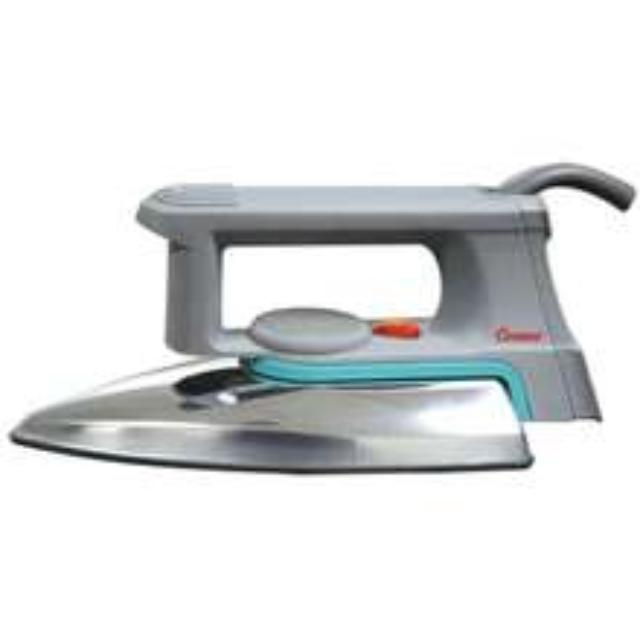Clothes-Iron: (97, 118, 536, 538)
